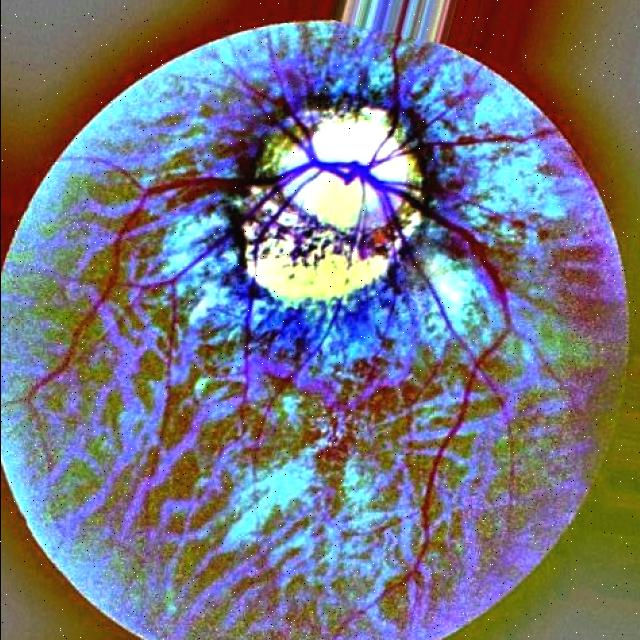Nerves: (113, 165, 310, 401), (316, 161, 468, 355), (365, 134, 523, 169)
Optic Disk: (240, 108, 421, 302)
